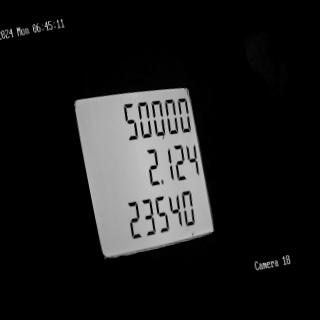screen: (66, 62, 224, 266)
